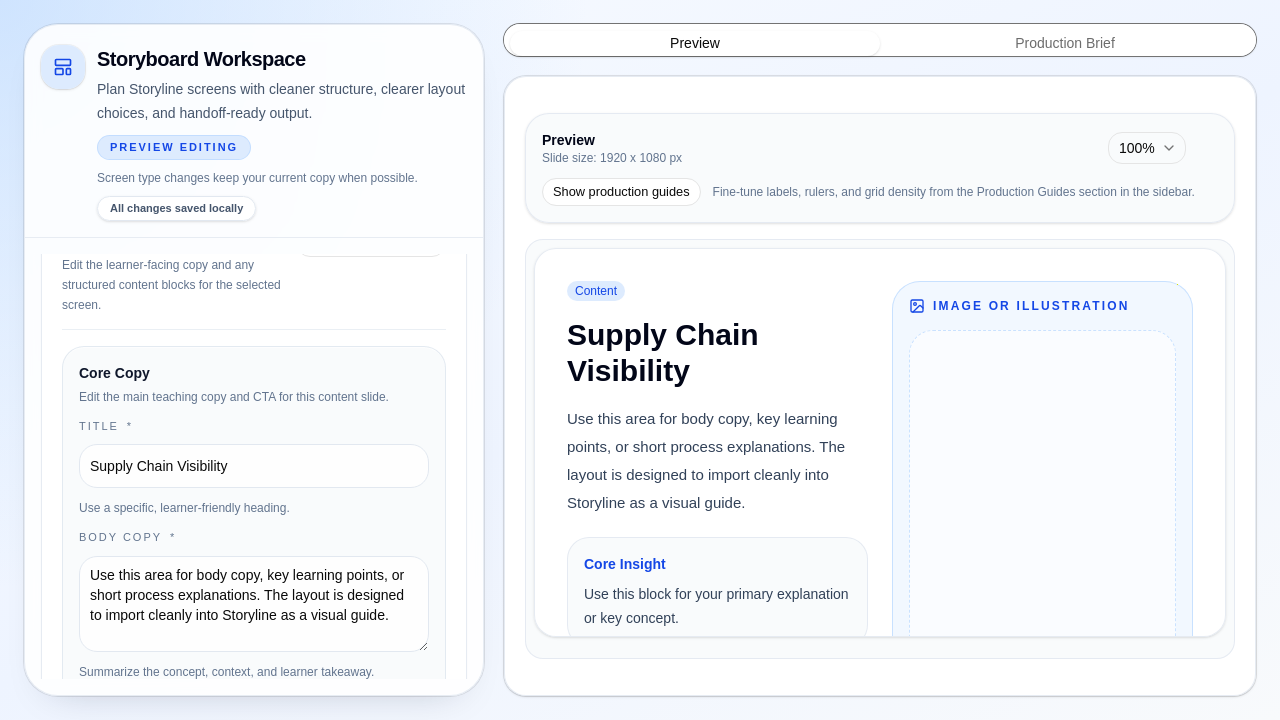
Test case: StorylineLayoutGenerator › lets the author change templates from the sidebar while preserving core copy and preview
This screenshot has width=1280, height=720.
(page scrolled)
Step 1. Replace the text in the field with "Template carryover title" → point(254, 466), box [79,444,429,488]
(page scrolled)
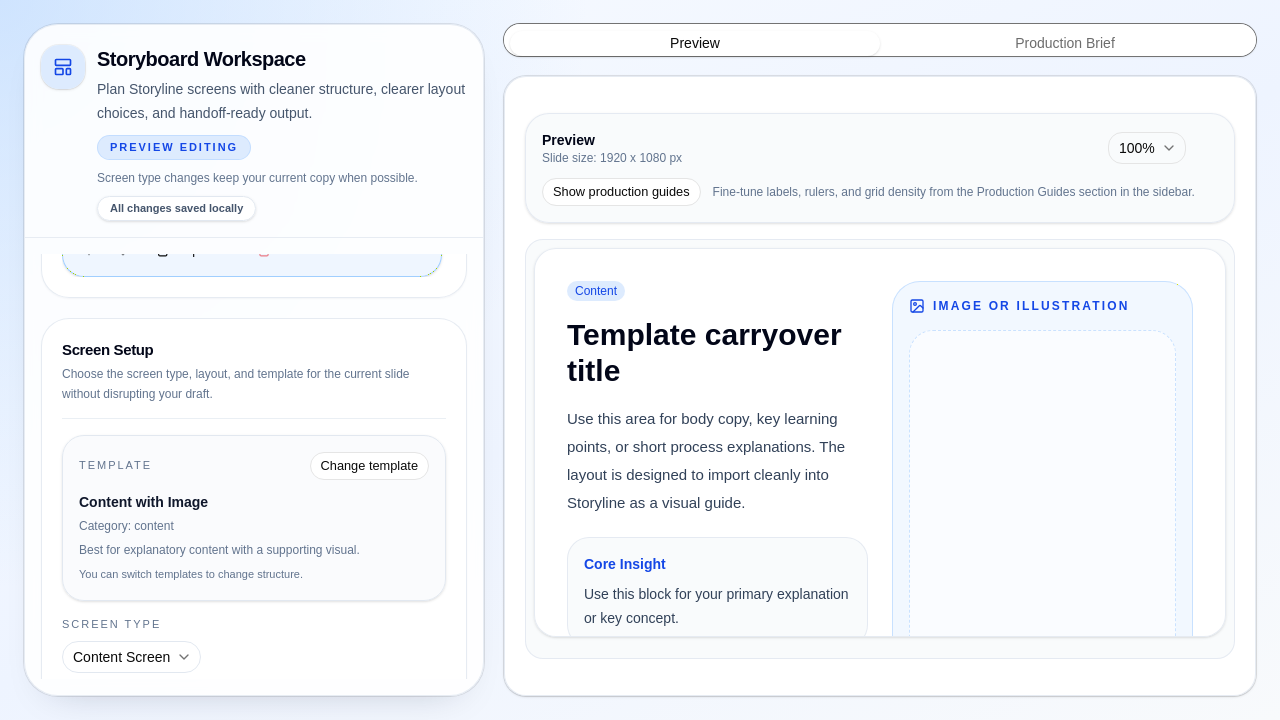
Step 2. Click the button "Change template" → point(369, 466), box [310,452,429,480]
(page scrolled)
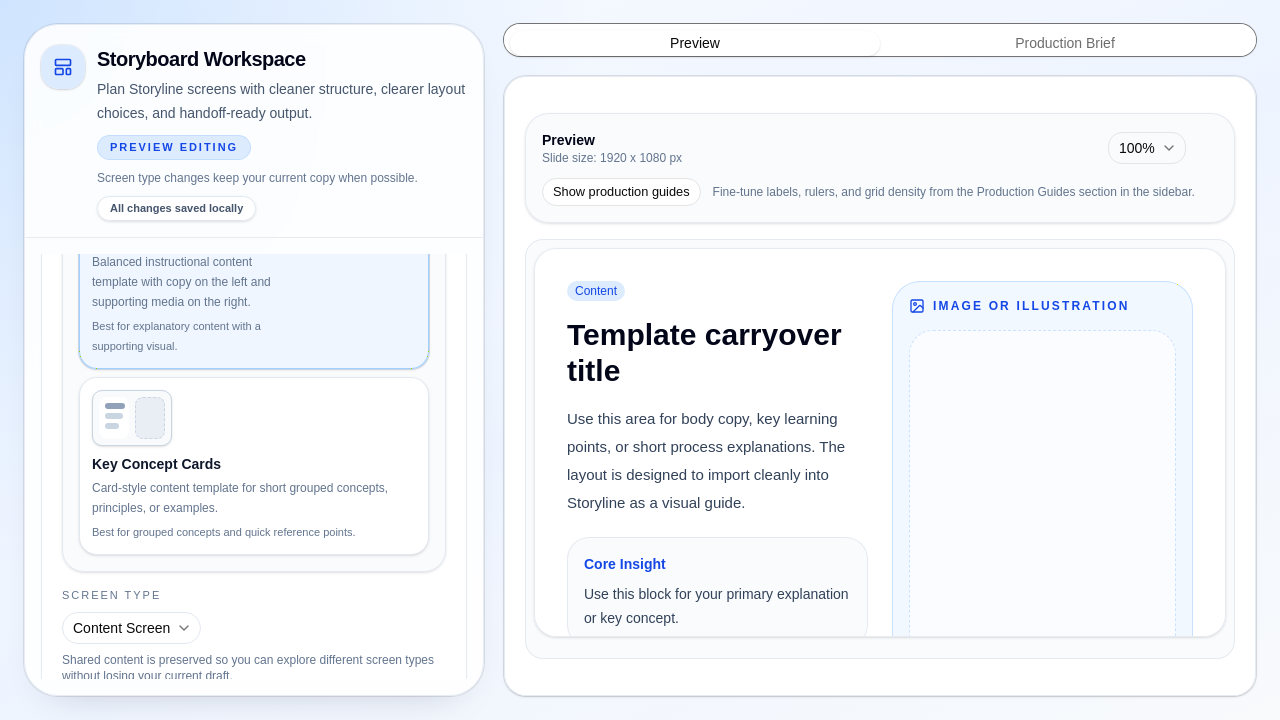
Step 3. Click the option "Key Concept Cards" → point(132, 418), box [79,377,429,555]
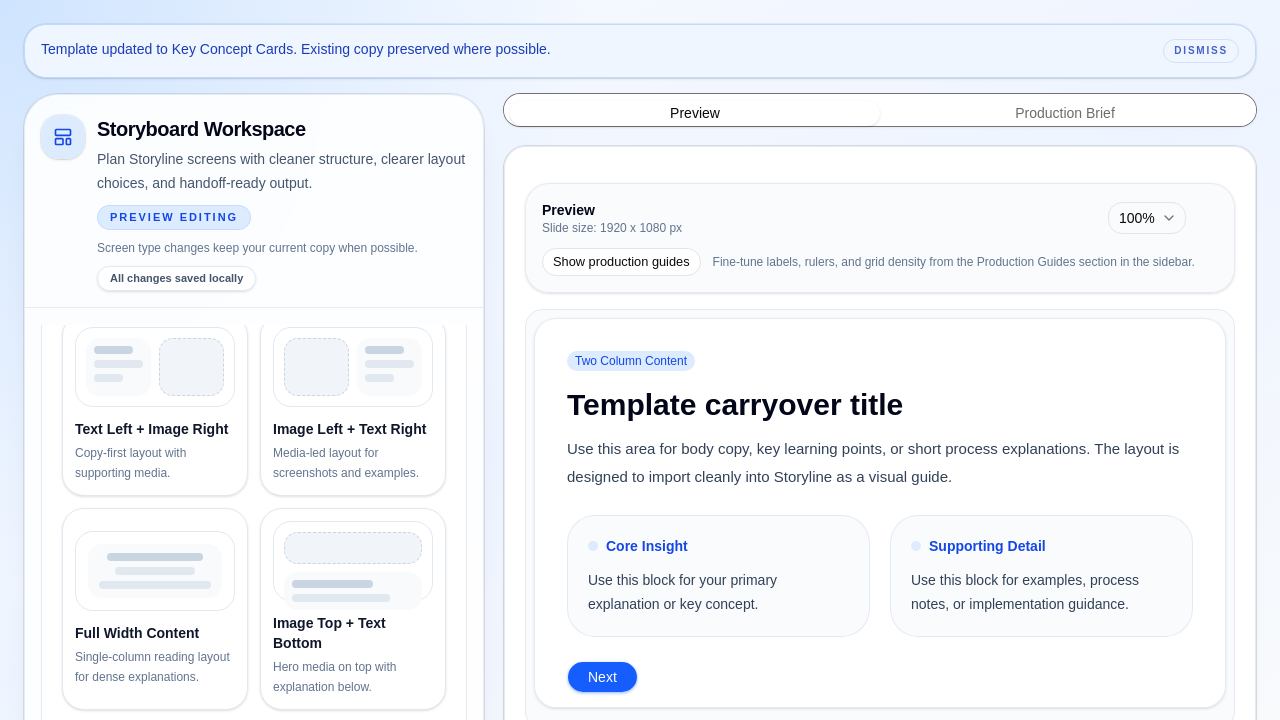
expect the tab "Preview" is shown: met, box [510,101,880,126]
expect the text "Template updated to Key Concept Cards" is shown: met, box [41,41,551,57]
